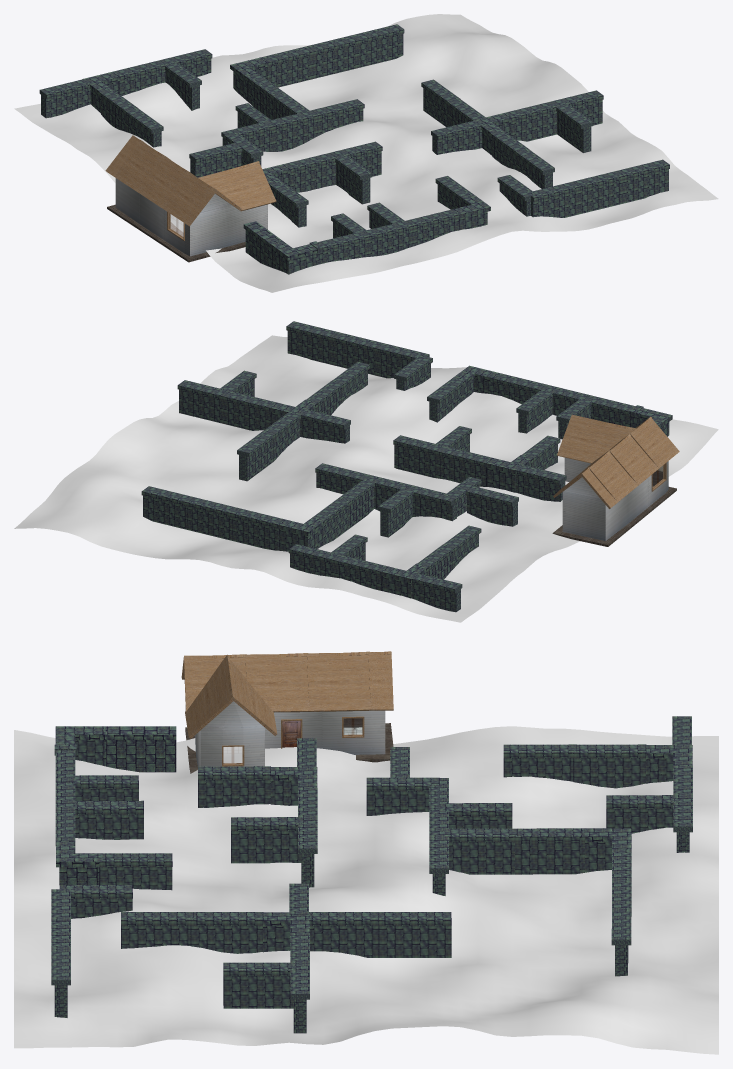
File: level8REAL (1).glb
3 renders of one model, top to bottom at view 1: azimuth 30°, elevation 25°; view 2: azimuth 150°, elevation 25°; view 3: azimuth 270°, elevation 25°, orthographic. The views are drawn at different scales.
Parts seen in each view (by area): view 1: Plane.002; view 2: Plane.002; view 3: Plane.002.
Part boxes in pixels (left/top/right/bottom): Plane.002: left=14, top=14, right=718, bottom=292; Plane.002: left=14, top=321, right=718, bottom=622; Plane.002: left=14, top=651, right=718, bottom=1054.
Size of the model in its own units: 324 by 50.21 by 304.
Materials: 9 (9 with a texture image).
